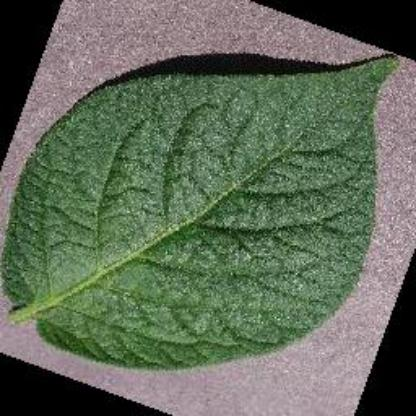Healthy-plant: (6, 47, 398, 373)
